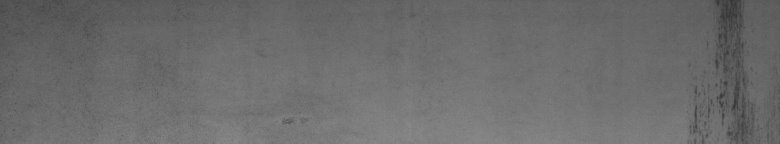ka: (687, 4, 758, 136)
